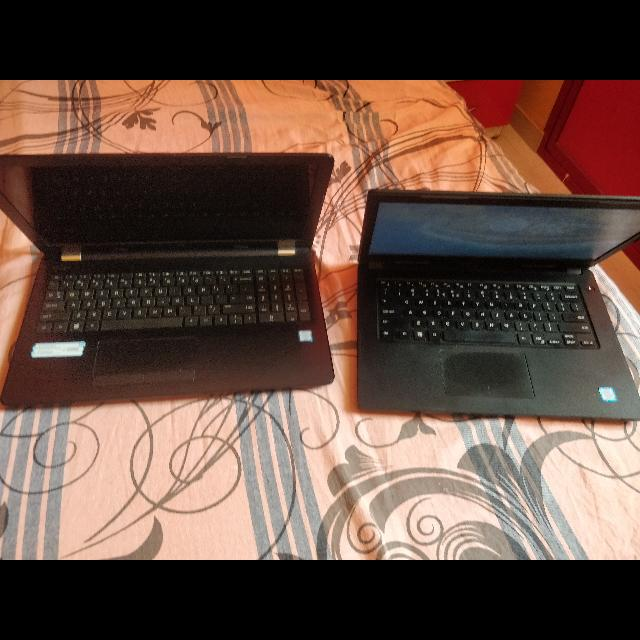Laptop: (0, 136, 342, 414), (352, 184, 640, 428)
